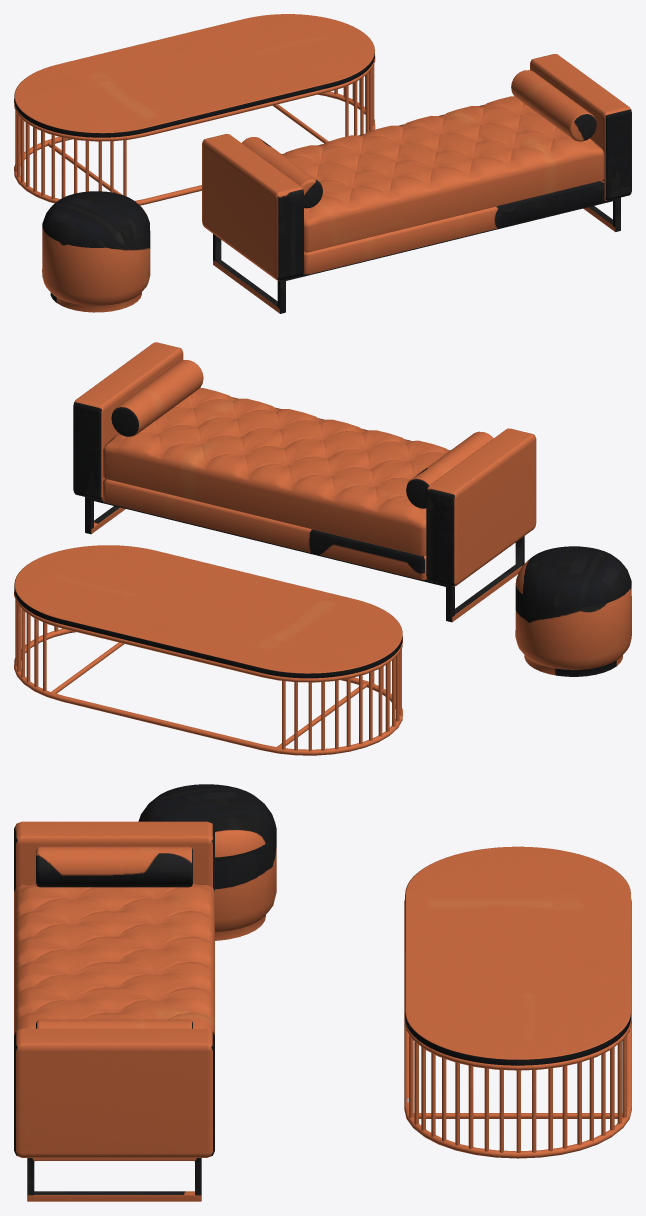
The model's file is CommunityRoomB_SofaB.fbx.
3 views of the same model, one above another, from view 1: azimuth 30°, elevation 25°; view 2: azimuth 150°, elevation 25°; view 3: azimuth 270°, elevation 25° (orthographic). The views are drawn at different scales.
Visible parts, largest first — view 1: CommunityRoomB_SofaB; view 2: CommunityRoomB_SofaB; view 3: CommunityRoomB_SofaB.
Boxes of the visible parts, x1=… form: CommunityRoomB_SofaB: x1=14, y1=14, x2=631, y2=313; CommunityRoomB_SofaB: x1=14, y1=342, x2=631, y2=755; CommunityRoomB_SofaB: x1=14, y1=784, x2=631, y2=1201.
Size of the model in its own units: 266 by 63.26 by 216.
